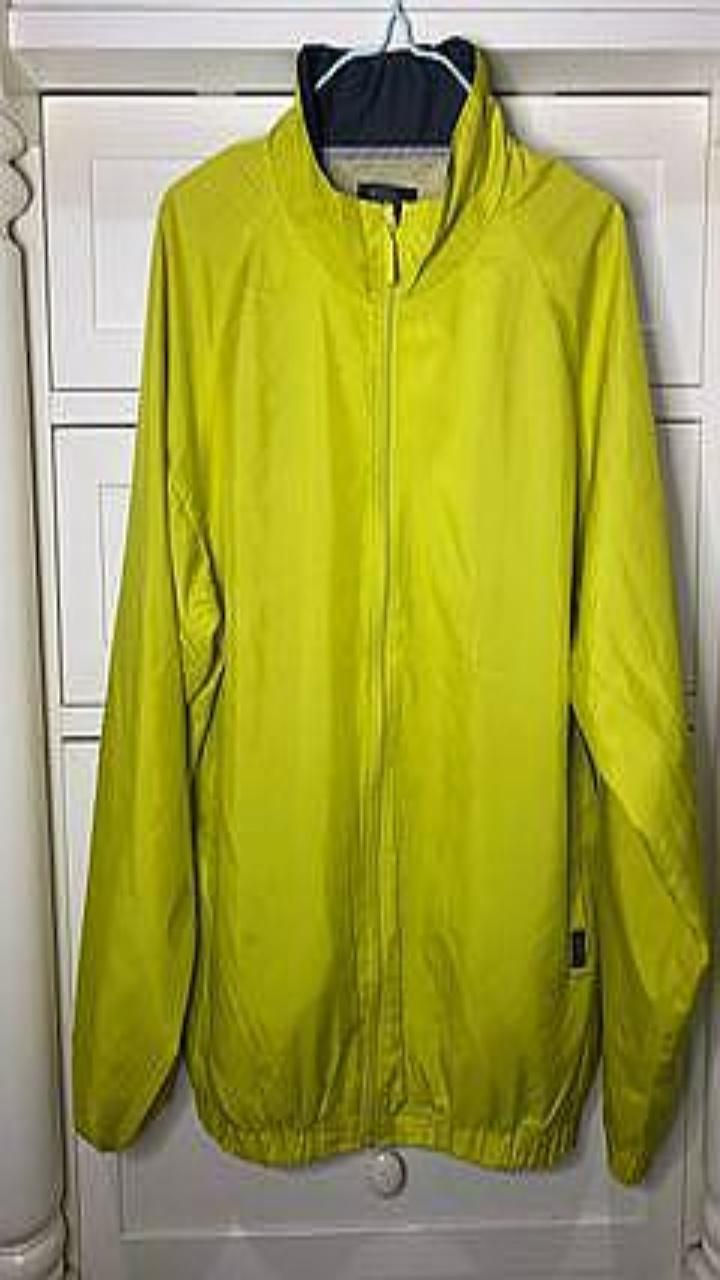Sports_Jacket: (72, 36, 709, 1182)
